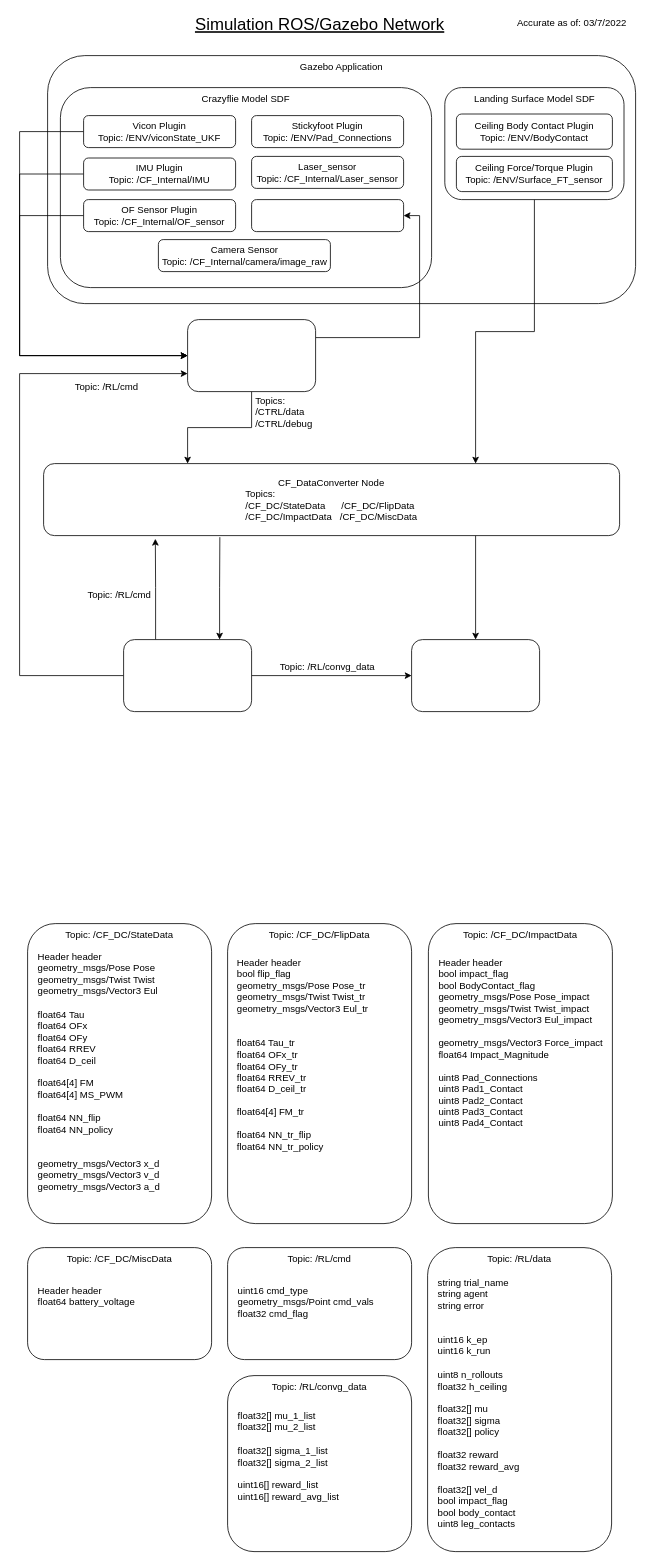
This 650x1566 diagram has some shape labels left out. The centre of each missing label's shape, as x and y in pixels:
Controller Node: (x=251, y=355)
Dashboard GUI Node: (x=475, y=675)
Motor Plugin Topic: /CF_Internal/MS_PWM: (x=327, y=215)
RL/Data Logging Node Topic: /RL/data Topic: /RL/cmd Topic: /RL/convg_data: (x=187, y=675)
